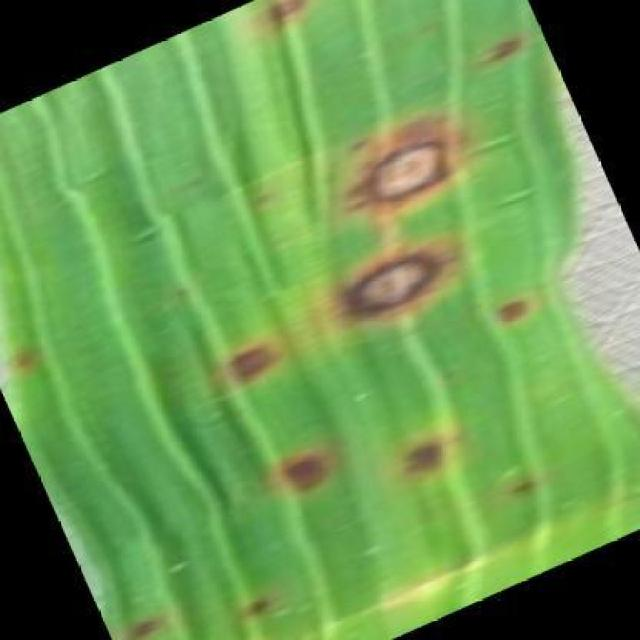Bacterial_Leaf_Blight: (290, 201, 505, 367), (304, 80, 504, 240), (202, 308, 300, 406)
Leaf_Blast: (254, 423, 348, 512), (237, 0, 349, 51), (383, 421, 460, 493), (467, 16, 535, 79), (481, 274, 542, 337), (117, 212, 175, 262), (2, 330, 52, 387), (232, 580, 288, 628), (158, 161, 215, 207), (497, 464, 548, 508), (116, 601, 173, 640), (403, 4, 446, 45), (74, 158, 118, 198), (39, 182, 81, 220), (241, 179, 284, 215), (164, 277, 196, 308)
